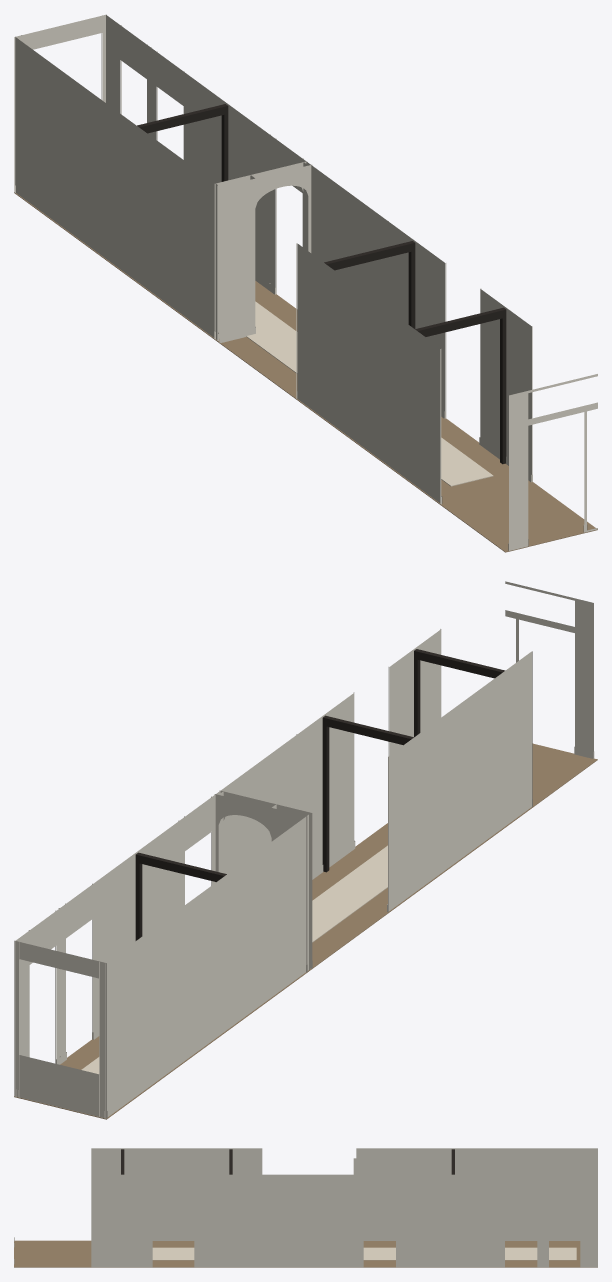
File: corridor-1.glb
The picture shows the model from 3 angles, top to bottom: view 1: azimuth 30°, elevation 25°; view 2: azimuth 150°, elevation 25°; view 3: azimuth 270°, elevation 25°; orthographic projection. The views are drawn at different scales.
Parts seen in each view (by area): view 1: DESIGN | corridor removable wall finish, DESIGN | corridor floor finish, DESIGN | Quiet hall runner, DESIGN | Measured threshold jamb.001, DESIGN | Measured threshold head.002, DESIGN | Measured threshold head, DESIGN | Measured threshold head.001; view 2: DESIGN | corridor removable wall finish, DESIGN | corridor floor finish, DESIGN | Quiet hall runner, DESIGN | Measured threshold jamb.003, DESIGN | Measured threshold head, DESIGN | Measured threshold head.001, DESIGN | Measured threshold head.002; view 3: DESIGN | corridor removable wall finish, DESIGN | corridor floor finish, DESIGN | Quiet hall runner.
Part boxes in pixels (bbox=[...]): DESIGN | corridor removable wall finish: bbox=[14, 14, 597, 550]; DESIGN | corridor floor finish: bbox=[14, 192, 597, 552]; DESIGN | Quiet hall runner: bbox=[246, 301, 493, 486]; DESIGN | Measured threshold jamb.001: bbox=[500, 307, 506, 464]; DESIGN | Measured threshold head.002: bbox=[137, 104, 227, 133]; DESIGN | Measured threshold head: bbox=[415, 308, 505, 336]; DESIGN | Measured threshold head.001: bbox=[324, 241, 414, 270]; DESIGN | corridor removable wall finish: bbox=[14, 581, 594, 1118]; DESIGN | corridor floor finish: bbox=[14, 743, 597, 1119]; DESIGN | Quiet hall runner: bbox=[81, 845, 387, 1074]; DESIGN | Measured threshold jamb.003: bbox=[322, 715, 329, 872]; DESIGN | Measured threshold head: bbox=[414, 649, 505, 678]; DESIGN | Measured threshold head.001: bbox=[323, 716, 413, 745]; DESIGN | Measured threshold head.002: bbox=[136, 853, 225, 881]; DESIGN | corridor removable wall finish: bbox=[14, 1148, 597, 1267]; DESIGN | corridor floor finish: bbox=[14, 1240, 597, 1267]; DESIGN | Quiet hall runner: bbox=[152, 1247, 576, 1260].
Bounding box in the file's own units: 1.7 × 2.74 × 15.63.
